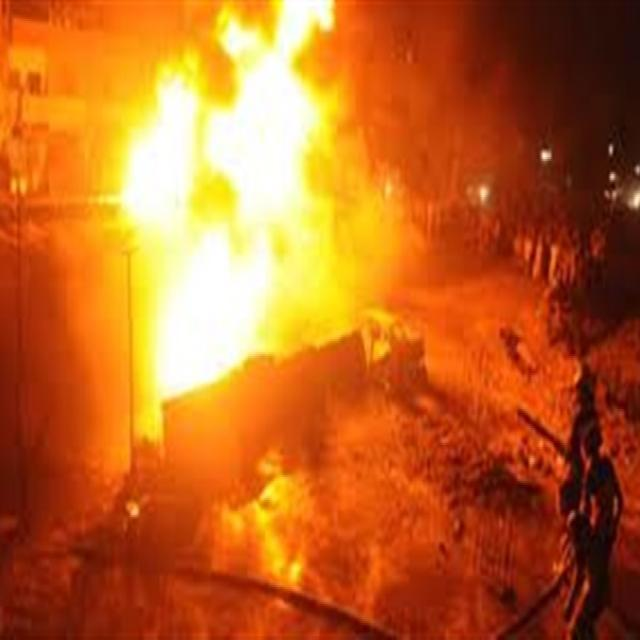Fire: (113, 0, 359, 422)
Smoke: (378, 3, 533, 186)
